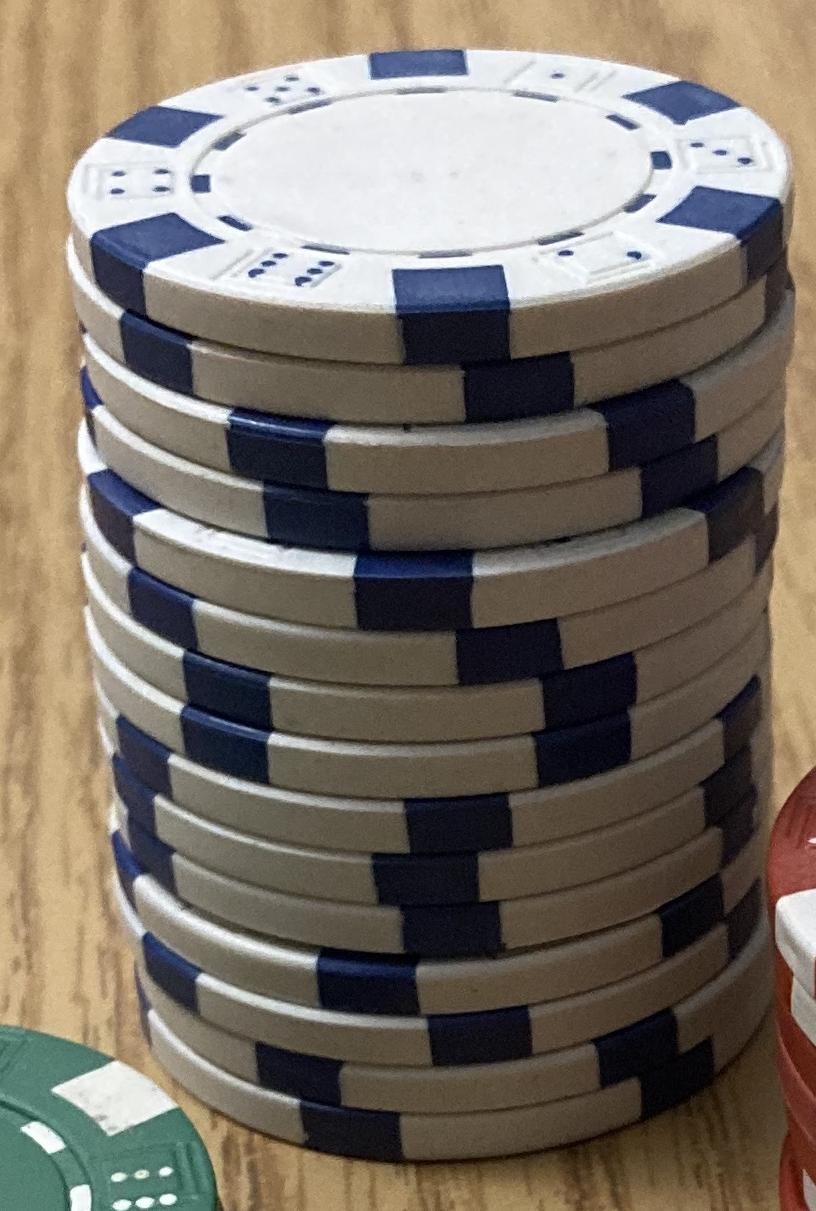Chip: (1, 1, 816, 1211)
